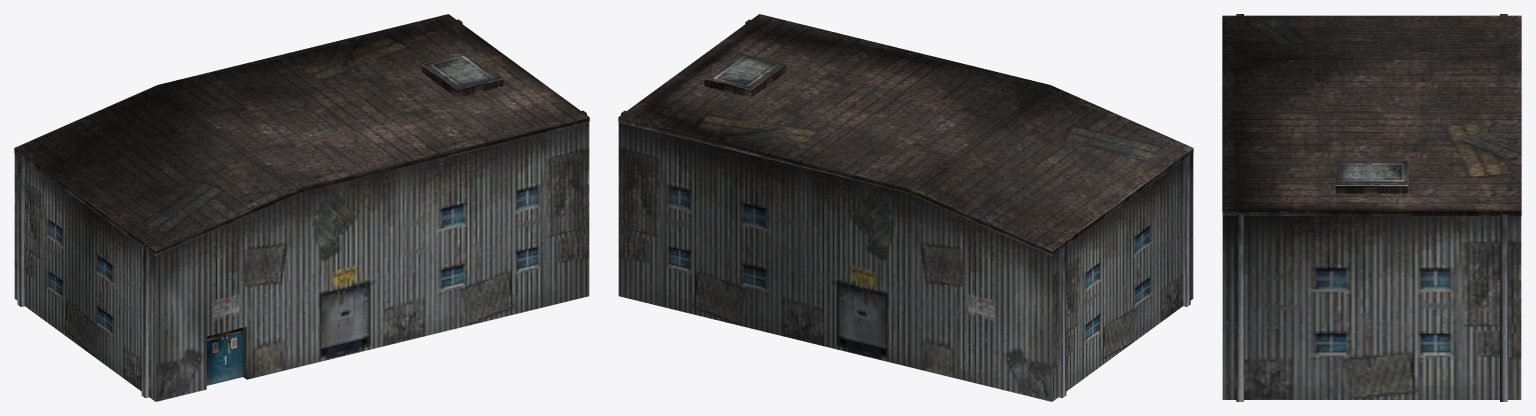
File: Civilian - Civilian Building - Wr F Whrs - CBWrFWhrs.glb
3 views of the same model, side by side, from view 1: azimuth 30°, elevation 25°; view 2: azimuth 150°, elevation 25°; view 3: azimuth 270°, elevation 25° (orthographic). The views are drawn at different scales.
Visible parts, largest first — view 1: CBWRFWHRS; view 2: CBWRFWHRS; view 3: CBWRFWHRS.
Part boxes in pixels (x1,y1,x2,y2): CBWRFWHRS: (14, 14, 589, 401); CBWRFWHRS: (618, 14, 1193, 401); CBWRFWHRS: (1222, 14, 1521, 401).
Size of the model in its own units: 134 by 54.15 by 74.07.
1 material, 1 textured.
